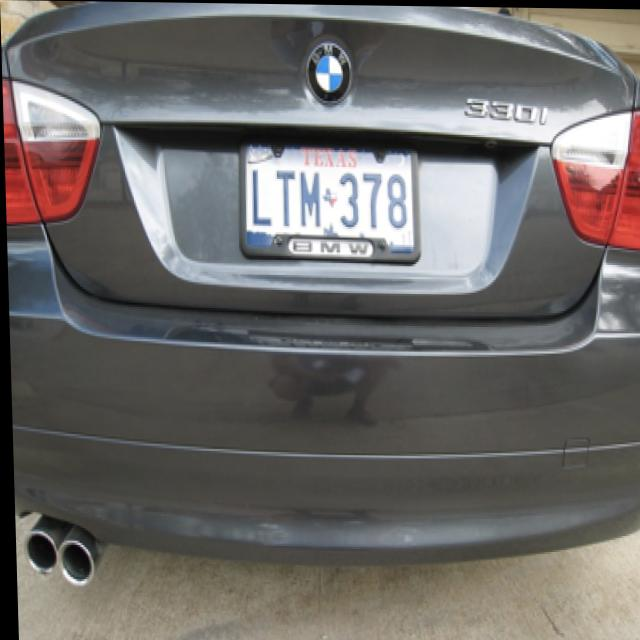licence: (238, 131, 416, 255)
